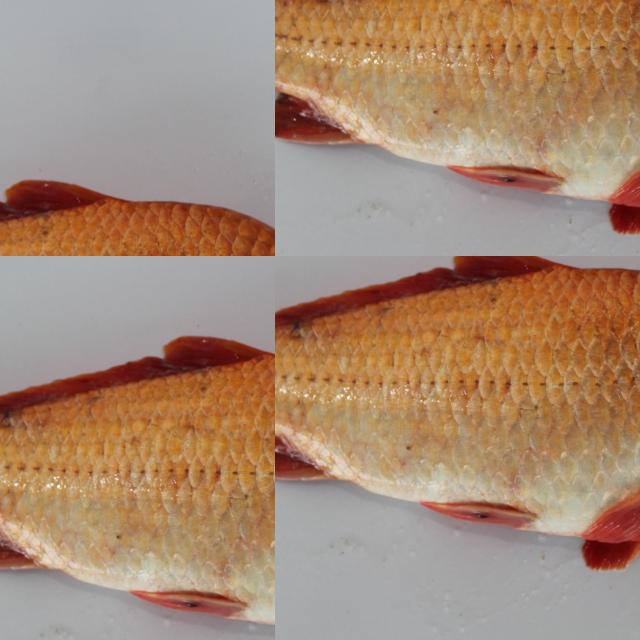fish: (275, 256, 640, 573)
